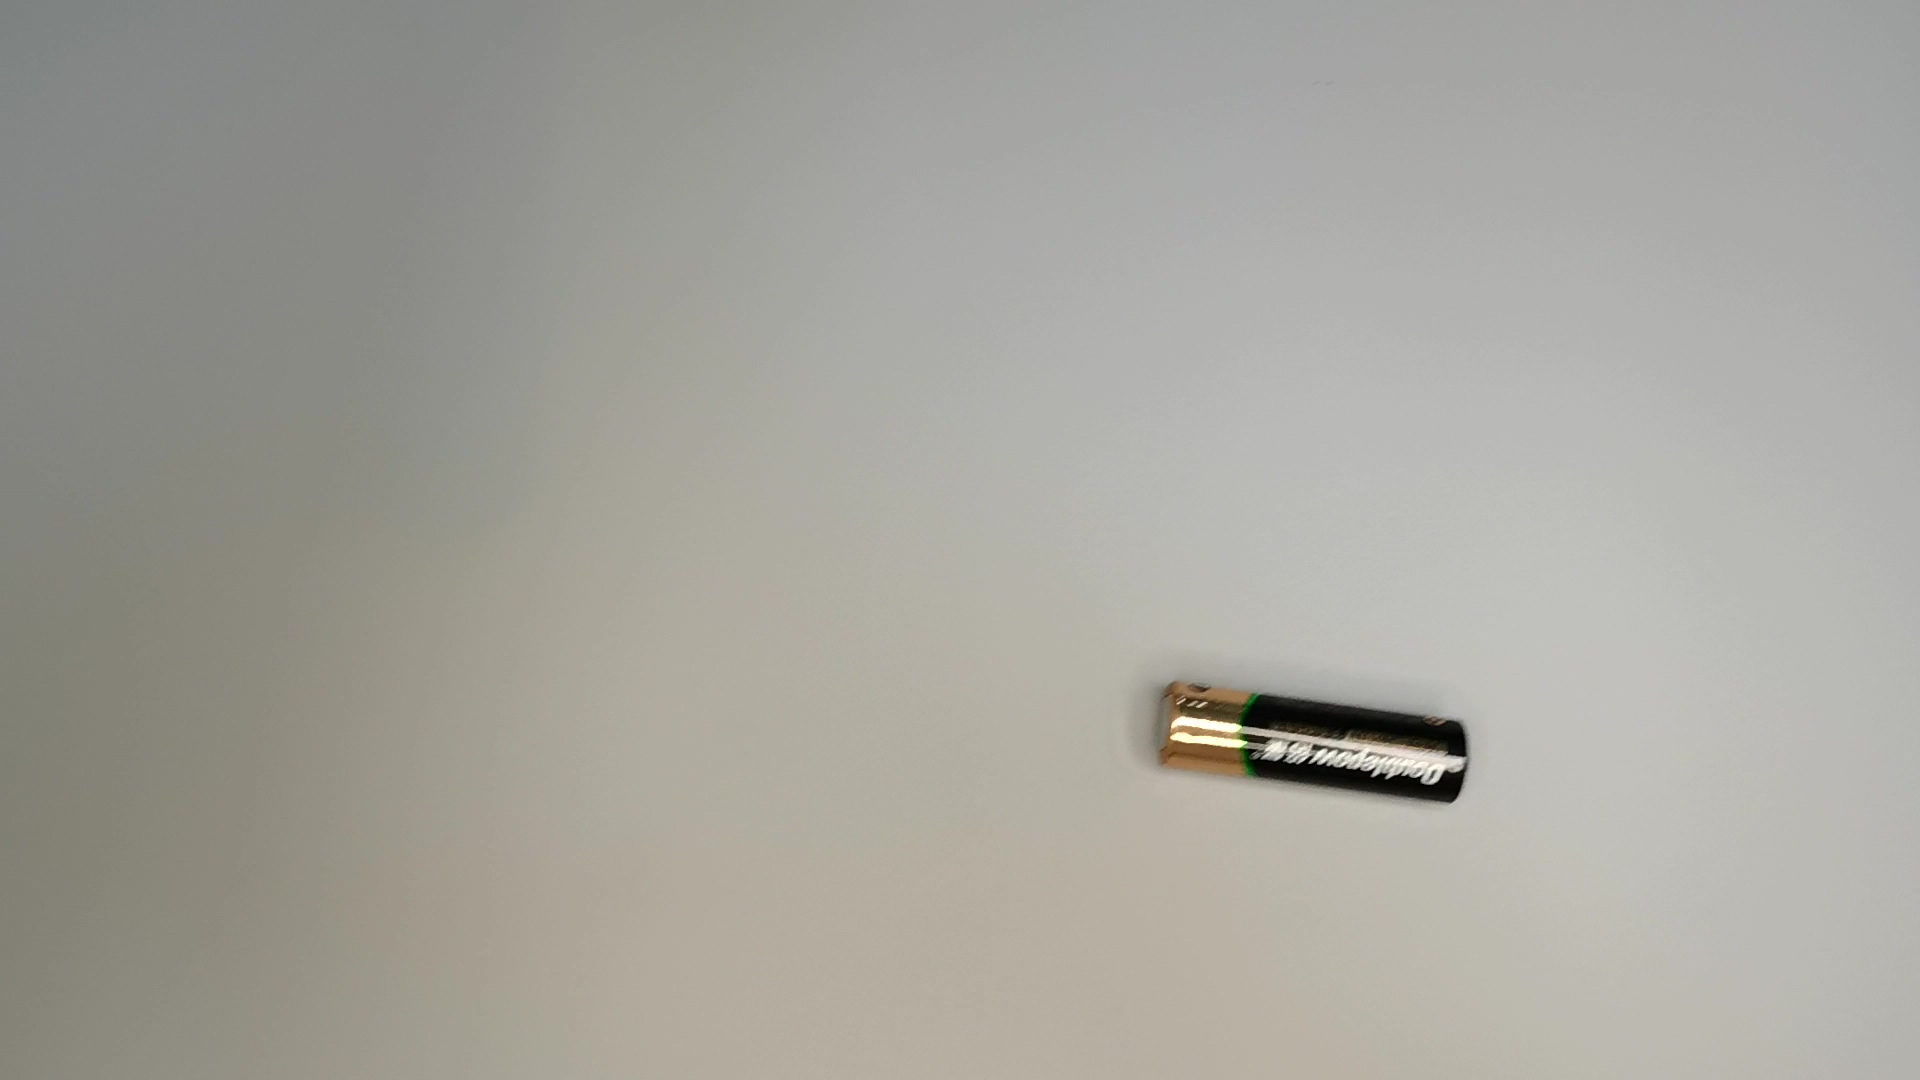battery: (1149, 669, 1484, 815)
